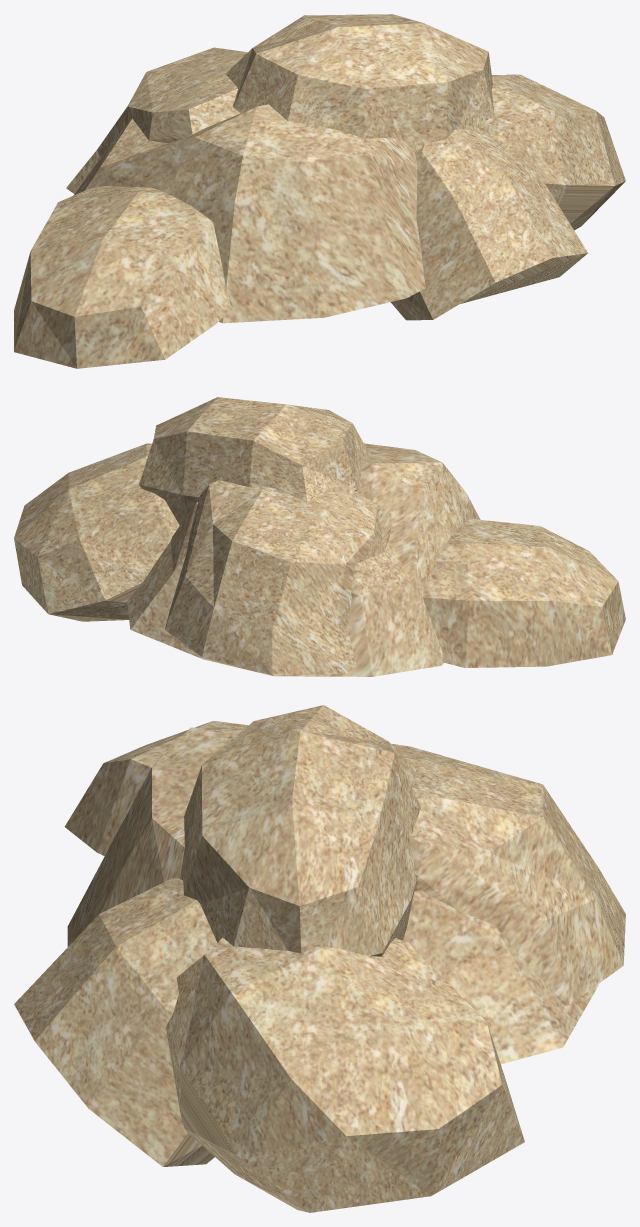
The model's file is tatt_rock_formation_l0.fbx.
3 views of the same model, one above another, from view 1: azimuth 30°, elevation 25°; view 2: azimuth 150°, elevation 25°; view 3: azimuth 270°, elevation 25° (orthographic). The views are drawn at different scales.
Parts seen in each view (by area): view 1: mesh_node; view 2: mesh_node; view 3: mesh_node.
Part boxes in pixels (left/top/right/bottom): mesh_node: left=14, top=14, right=625, bottom=368; mesh_node: left=14, top=397, right=625, bottom=676; mesh_node: left=14, top=705, right=625, bottom=1212.
Size of the model in its own units: 14.03 by 5.56 by 8.91.
Materials: 1 (1 with a texture image).
